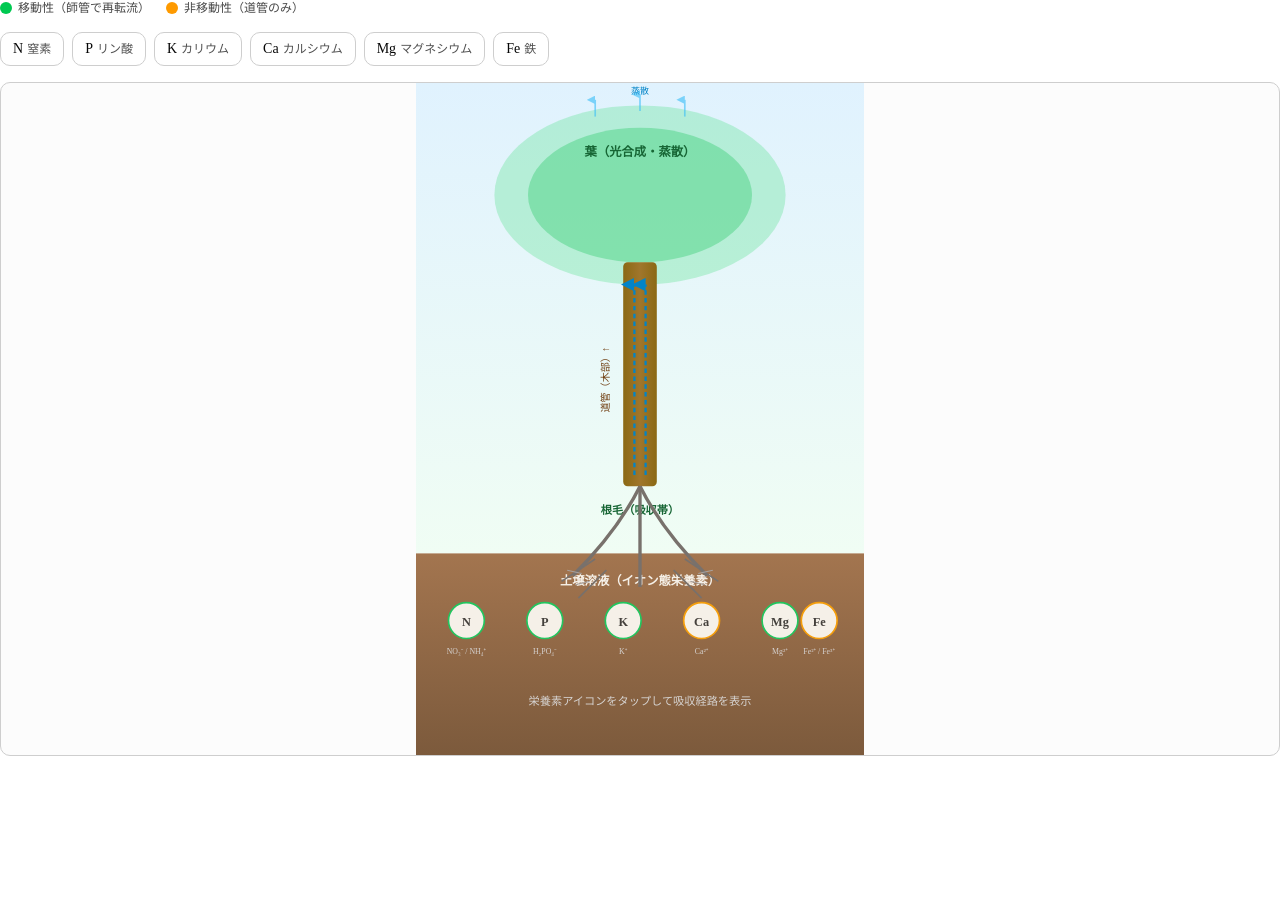
Test: NutrientAbsorptionDiagram › 窒素（移動性）を選択すると詳細パネルが表示され「移動性」バッジが付く
Click the button "N窒素": [32, 49] box [0,32,64,66]
(page scrolled)
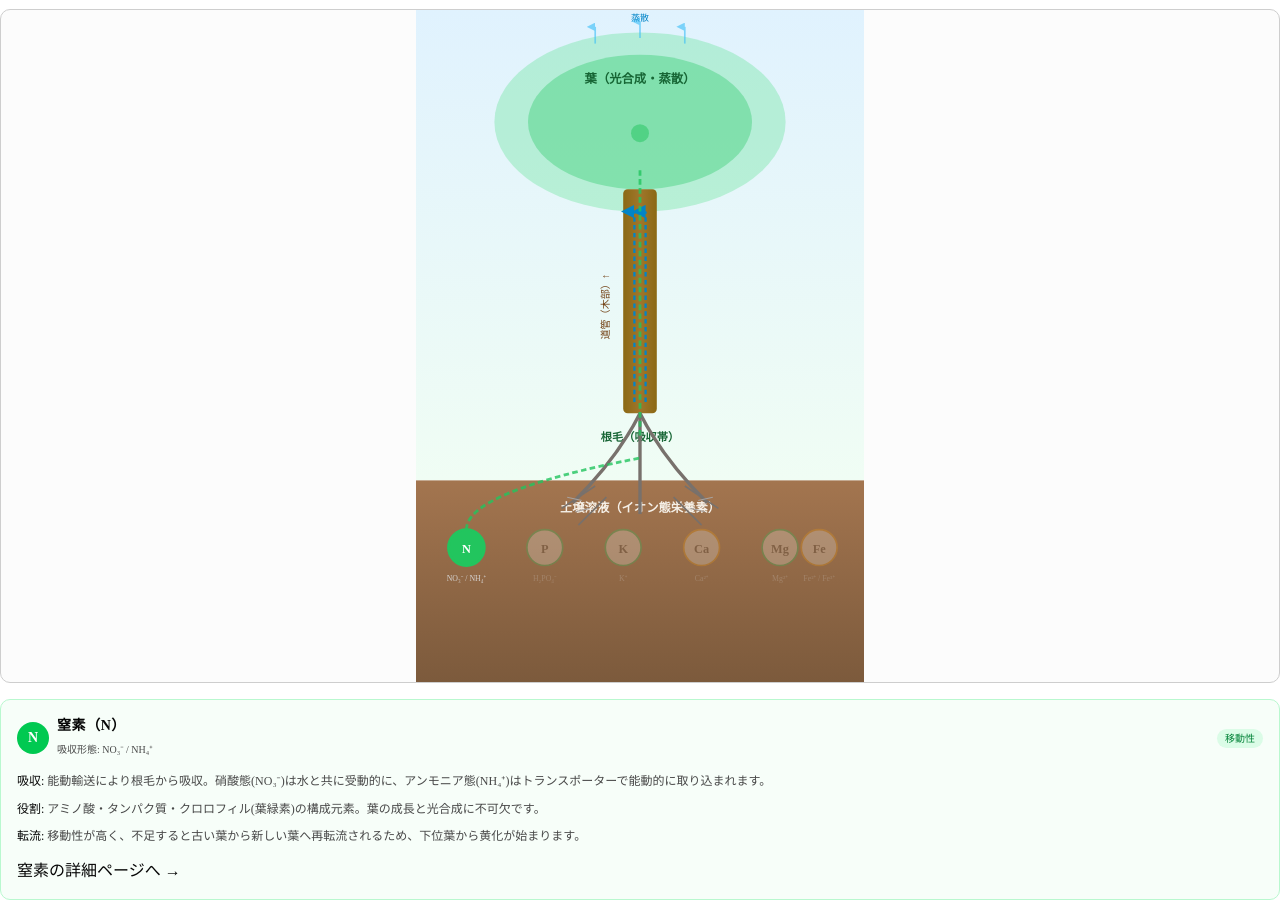
Expected: the heading "窒素（N）" is shown, [57,718,126,733]
Expected: the text "移動性" is shown, [1217,728,1263,748]
Expected: the text "吸収:" is shown, [17,774,47,788]
